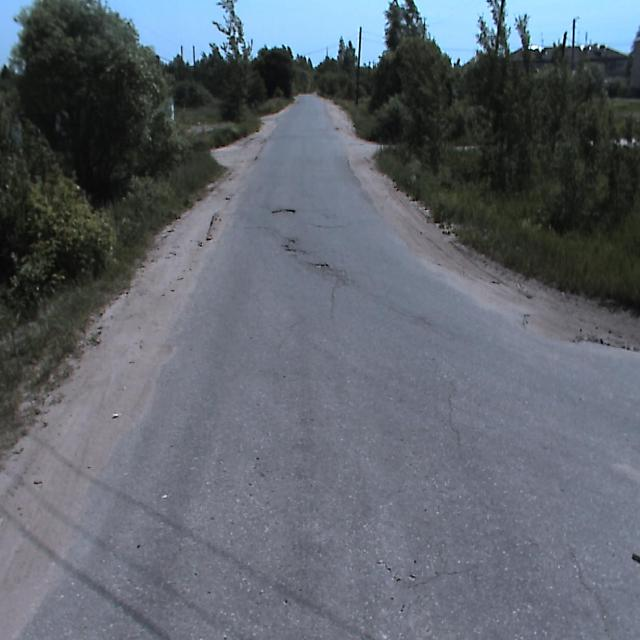road: (14, 95, 639, 639)
